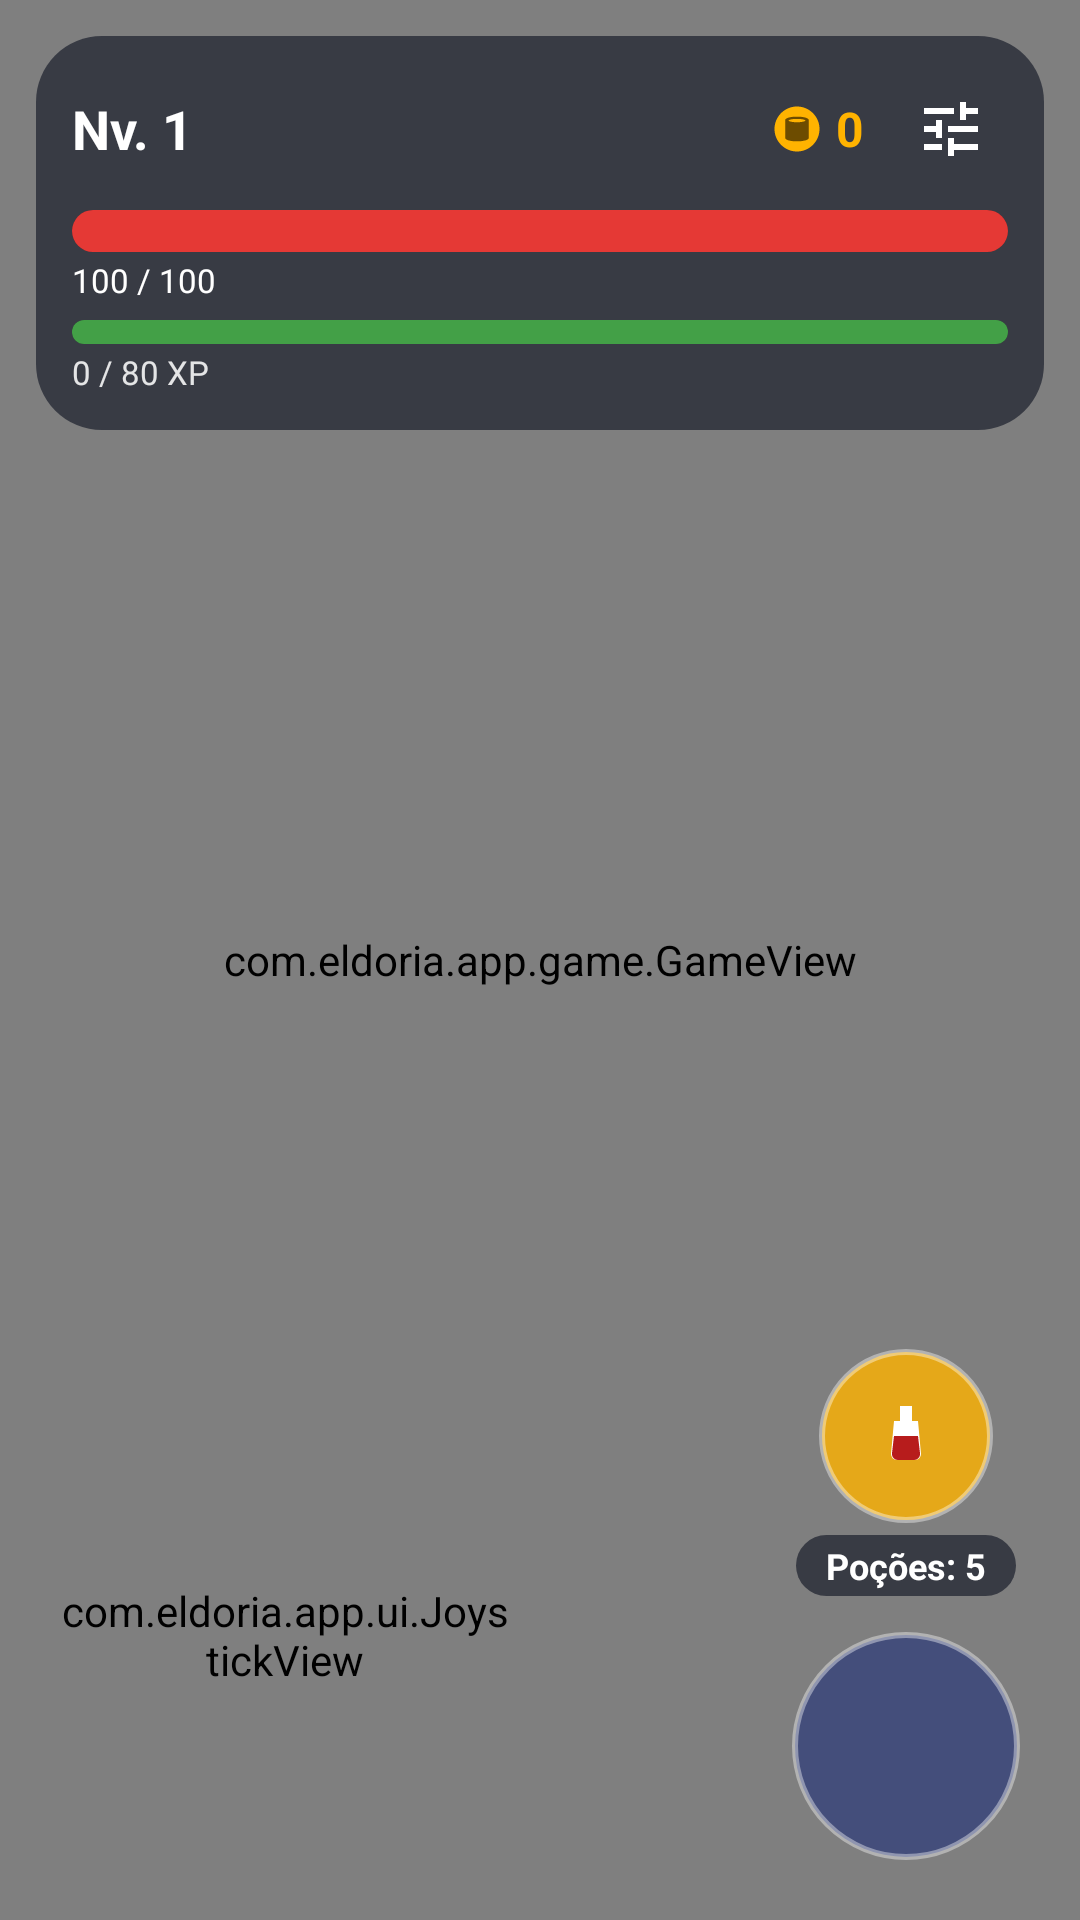

Locate icon controls on the screen. Image size 1080px×1920px, boxes as (x1, y1, x2, y2).
Configurações: (924, 102, 978, 156)
Ouro: (774, 106, 820, 152)
Usar poção: (819, 1349, 993, 1523)
